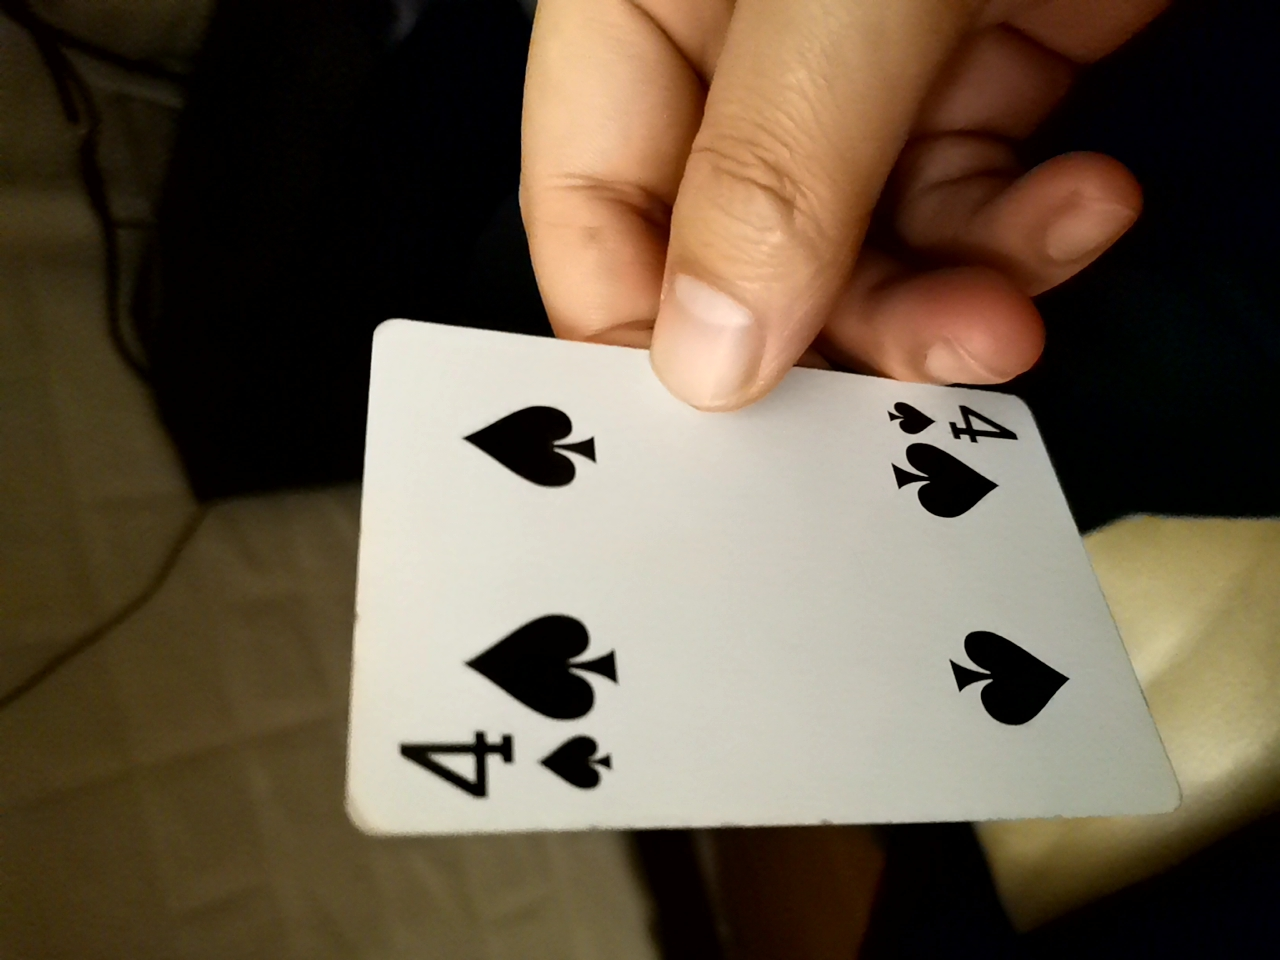ht 4: (321, 310, 1142, 844)
